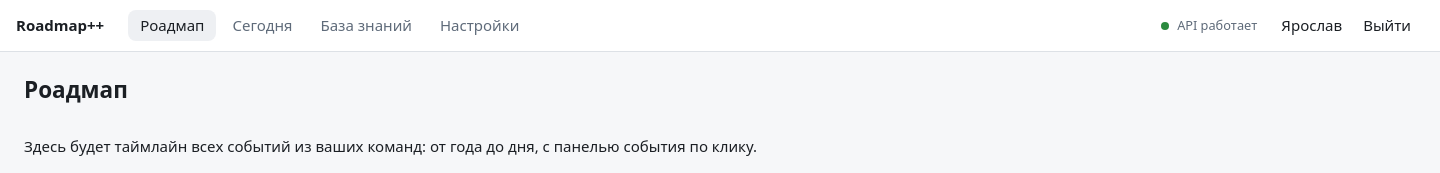
Scenario: routes › navigates between sections through the header
Click the link "Сегодня".
click(262, 25)  # box [232, 15, 292, 35]
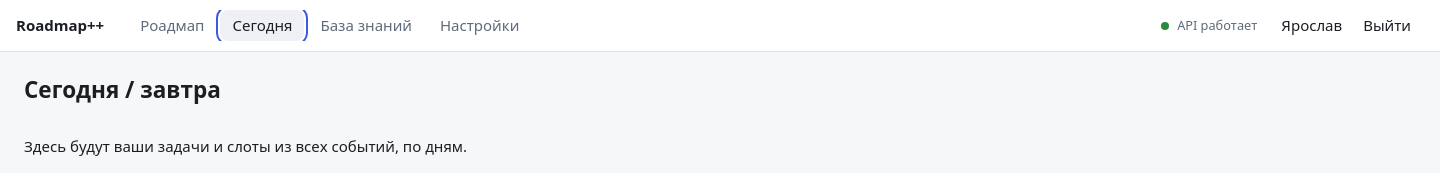
Expected: the heading "Сегодня / завтра" is shown, [24, 74, 221, 105]
